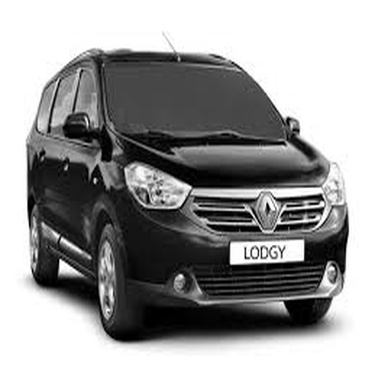car: (10, 29, 350, 327)
